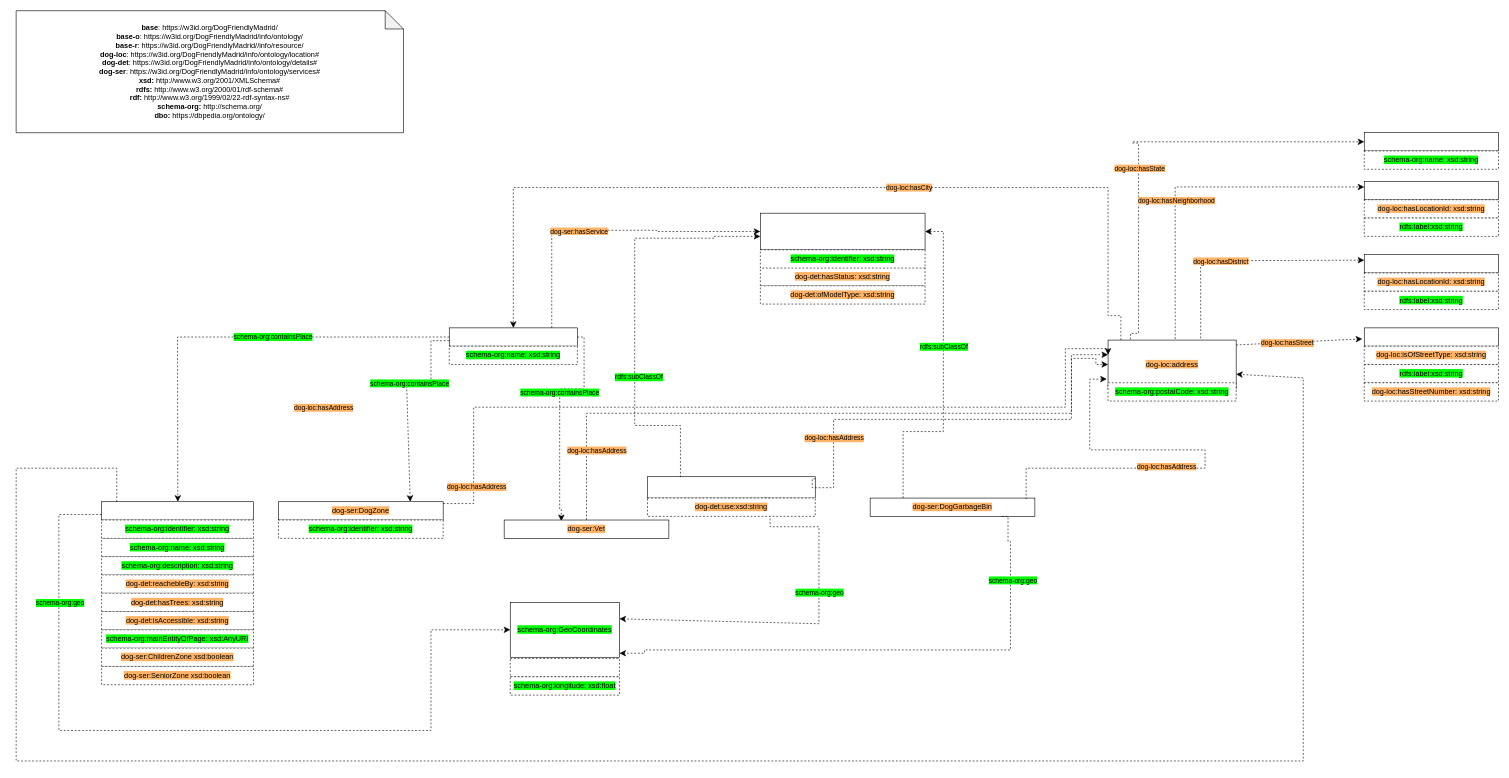
This 1509x778 diagram has some shape labels left out. Each missing label, with the centre of its shape:
doc-ser:Services: pixel 842 231
dog-loc:District: pixel 1431 263
dog-loc:Neighborhood: pixel 1431 190
dog-loc:thoroughfare: pixel 1431 336
dog-ser:DrinkingFountain: pixel 731 487
schema-org:City: pixel 513 336
schema-org:latitude: xsd:float: pixel 564 667
schema-org:Park: pixel 177 510
schema-org:State: pixel 1431 141
